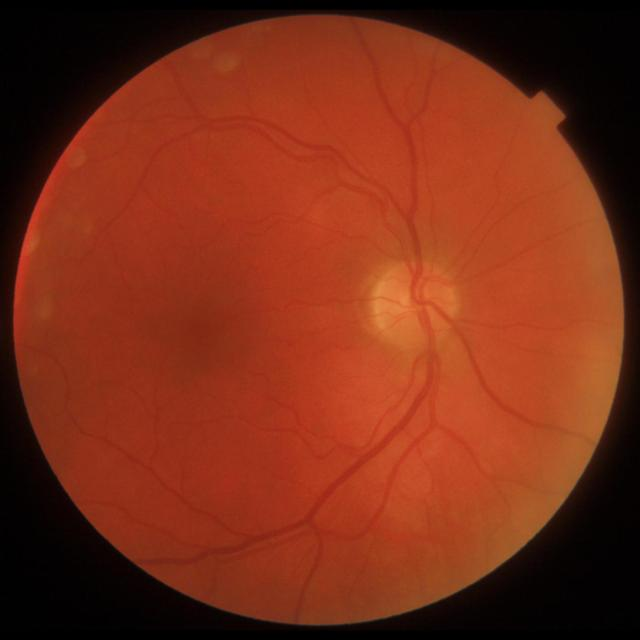OC: (399, 284, 428, 311)
OD: (372, 260, 460, 349)
